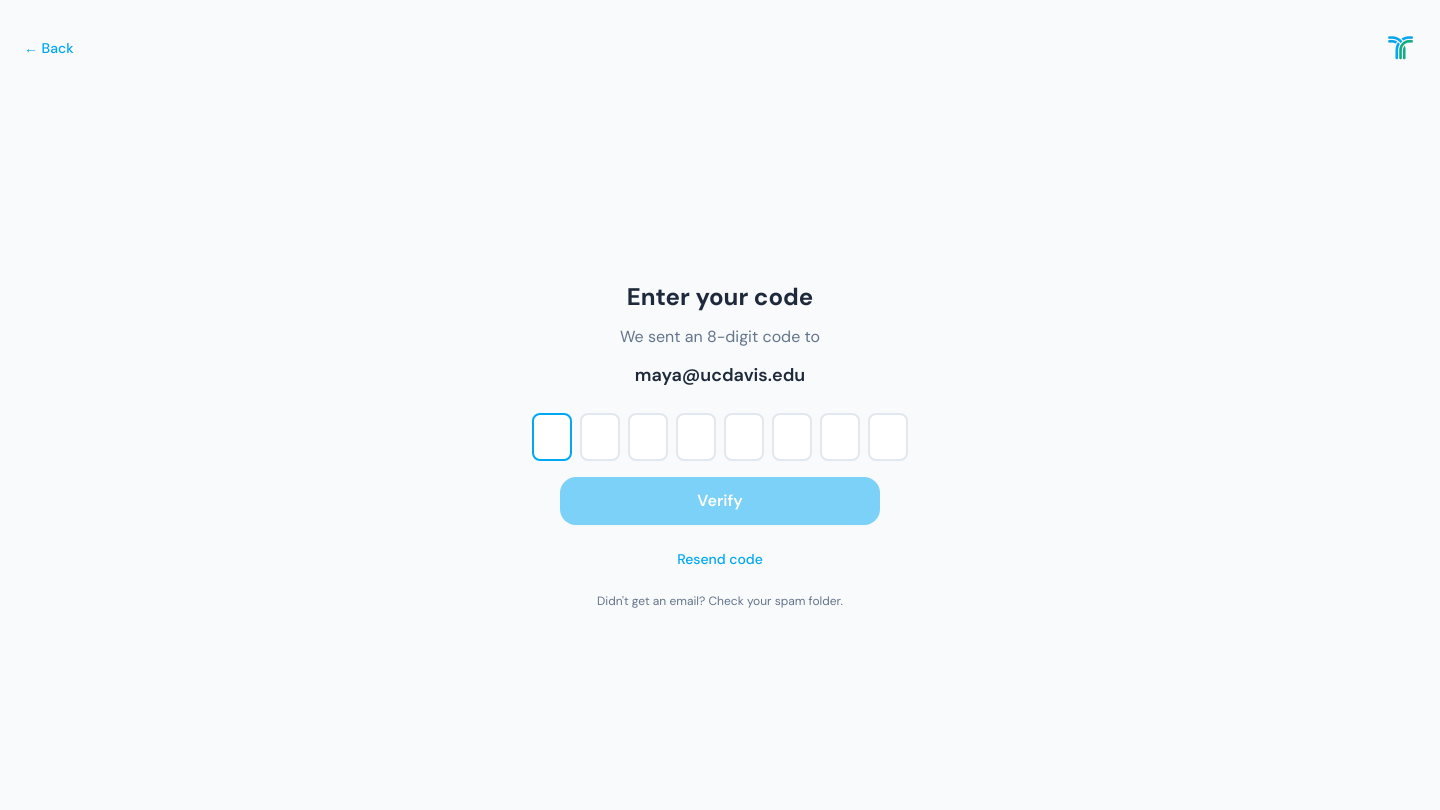
Test: CheckInbox OTP screen › resets countdown after successful resend
Click the button with test id "resend-button": (720,559) [677, 549, 763, 569]
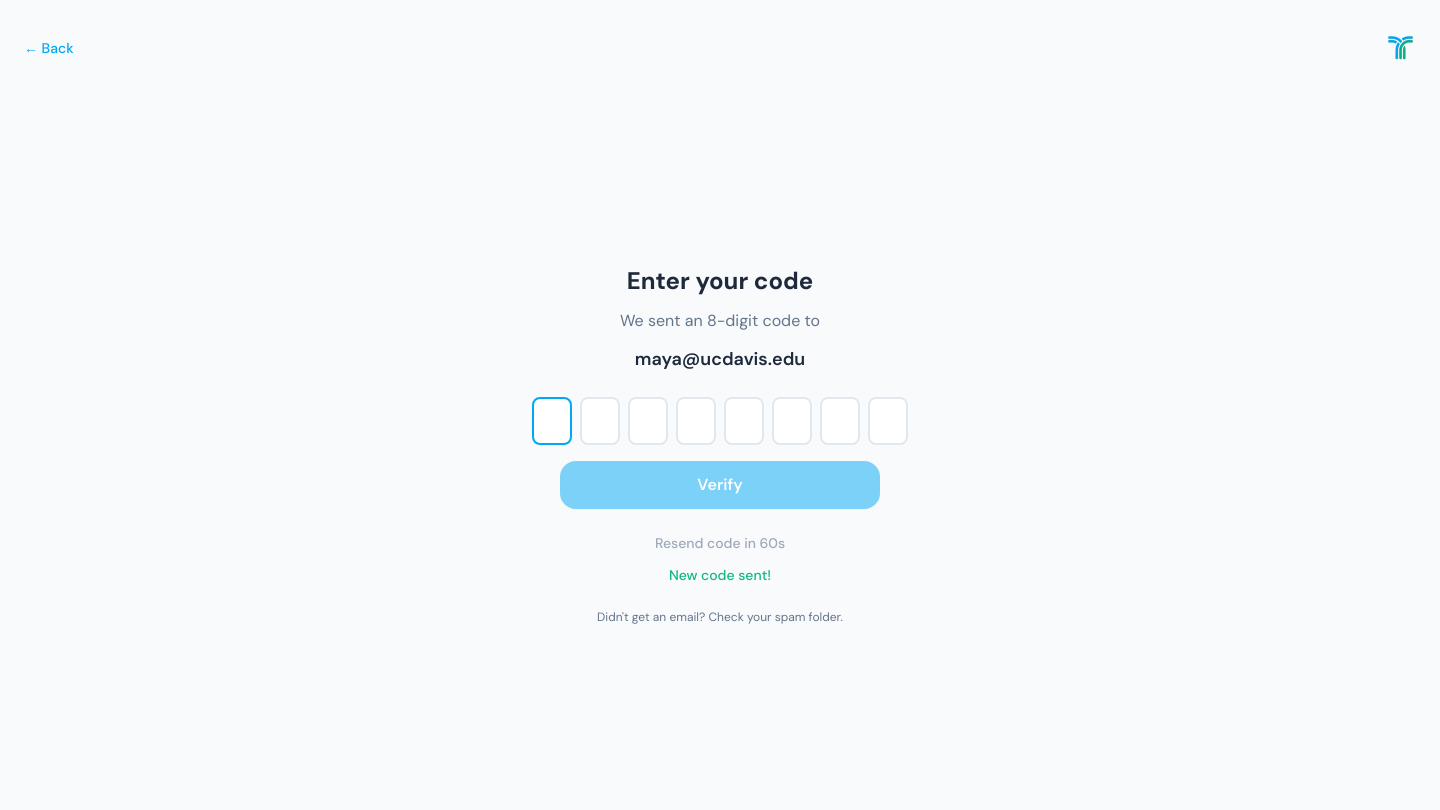
Expected: the button with test id "resend-button" is disabled, [655, 533, 785, 553]
